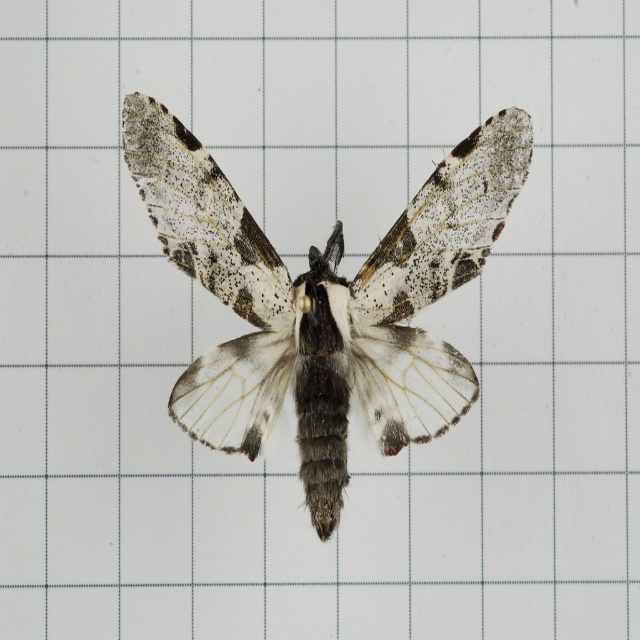Moths and butterflies: (120, 89, 535, 543)
